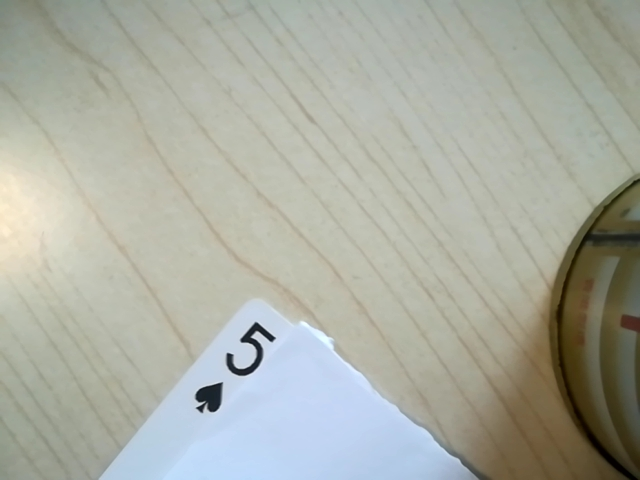ht 5: (181, 315, 289, 420)
